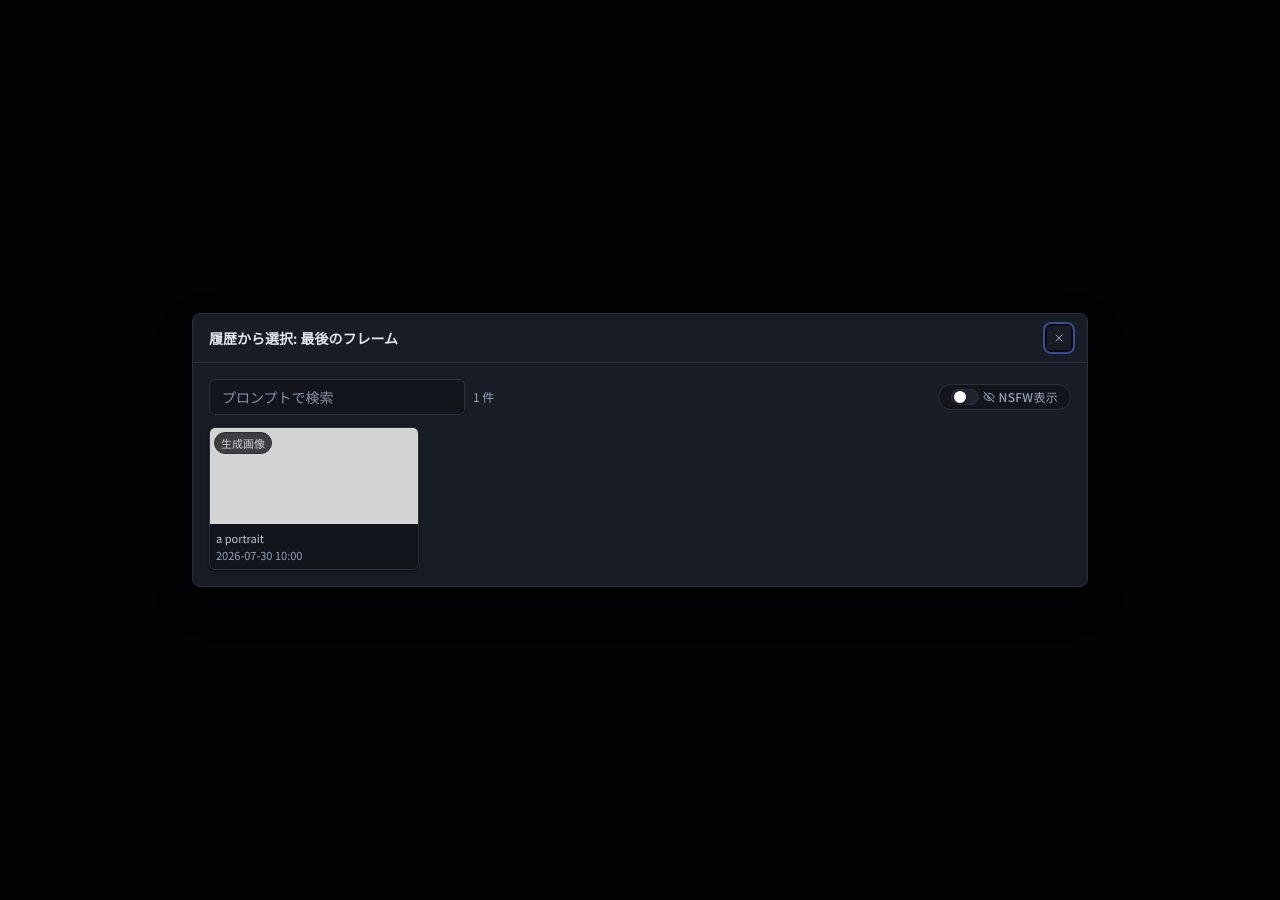
Test: HistoryPickerModal › NSFW 表示はモーダル内で切り替えられる
The width and height of the screenshot is (1280, 900).
Click the switch named "NSFW表示".
click(965, 397)  # box [951, 389, 979, 405]
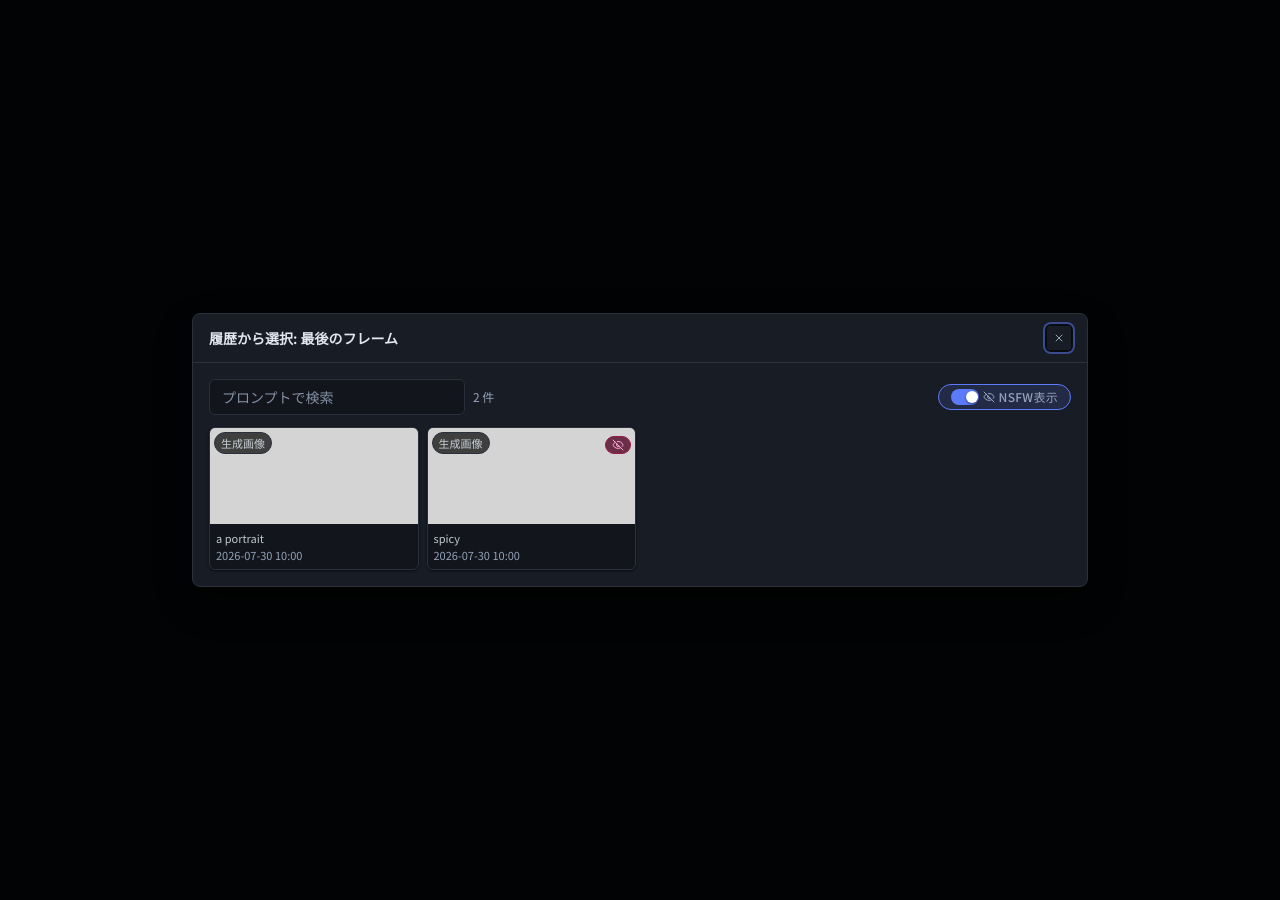
expect the text "2 件" is shown: met, box [473, 389, 494, 405]
